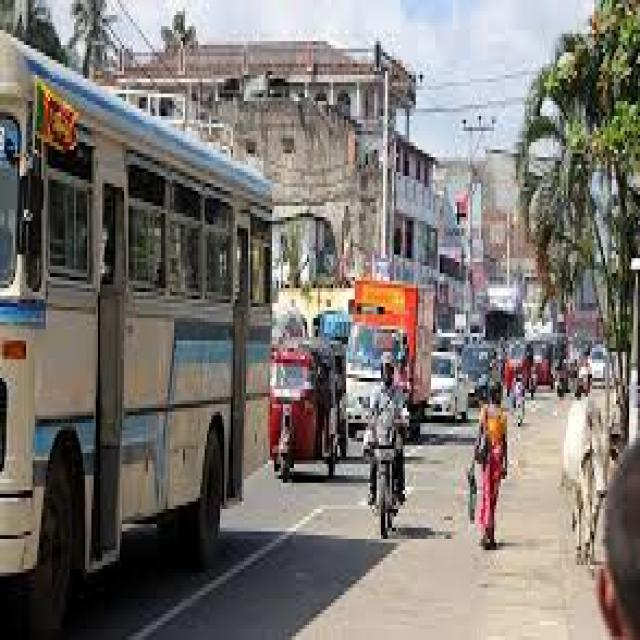bodaboda: (358, 387, 413, 541)
bus: (0, 16, 277, 588)
tuktuk: (287, 314, 357, 509)
